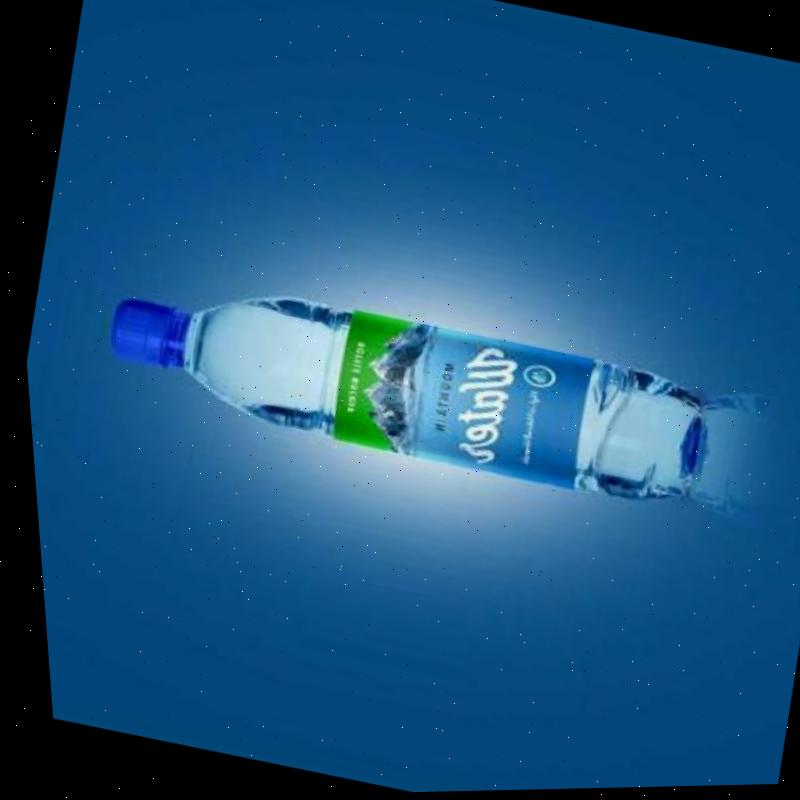botella: (88, 249, 710, 525)
